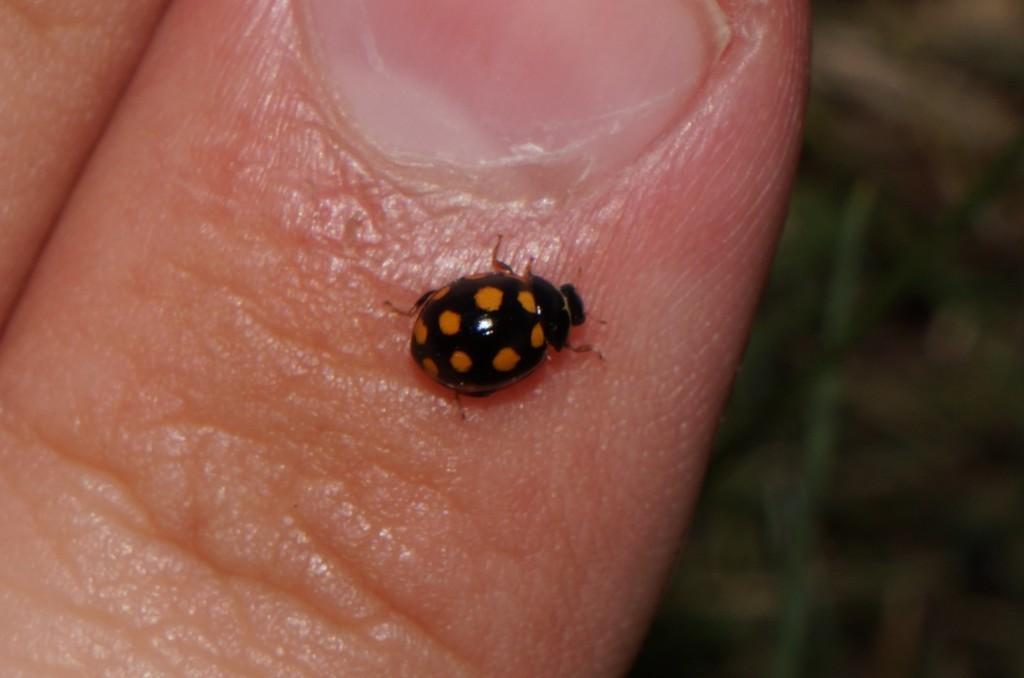ladybug: (381, 231, 611, 425)
